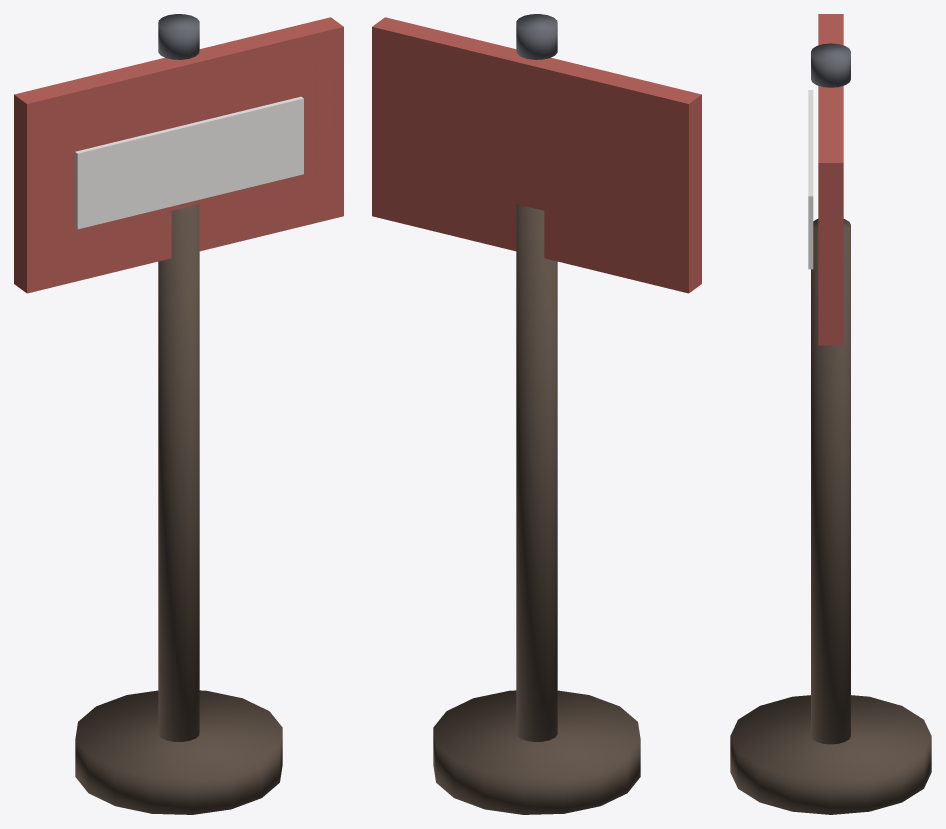
File: prop_tate_fuda_eigyo.glb
3 views of the same model, side by side, from view 1: azimuth 30°, elevation 25°; view 2: azimuth 150°, elevation 25°; view 3: azimuth 270°, elevation 25° (orthographic). The views are drawn at different scales.
Visible parts, largest first — view 1: tate_fuda_eigyo; view 2: tate_fuda_eigyo; view 3: tate_fuda_eigyo.
Part boxes in pixels (<box>): tate_fuda_eigyo: <box>14,14,343,814</box>; tate_fuda_eigyo: <box>372,14,701,814</box>; tate_fuda_eigyo: <box>730,14,931,814</box>.
Size of the model in its own units: 0.7 by 1.58 by 0.4.
